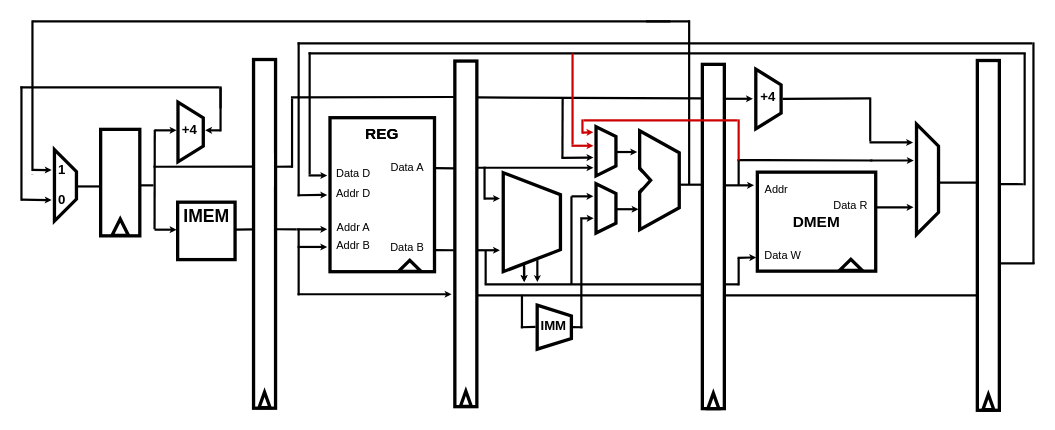
This 1055x430 diagram has some shape labels left out. The shapes that lost their labels are listed below. From the top down, each one's centre as x and y in pixels, then its label:
At point 658,180: "ALU".
At point 531,221: "Branch Comp".
